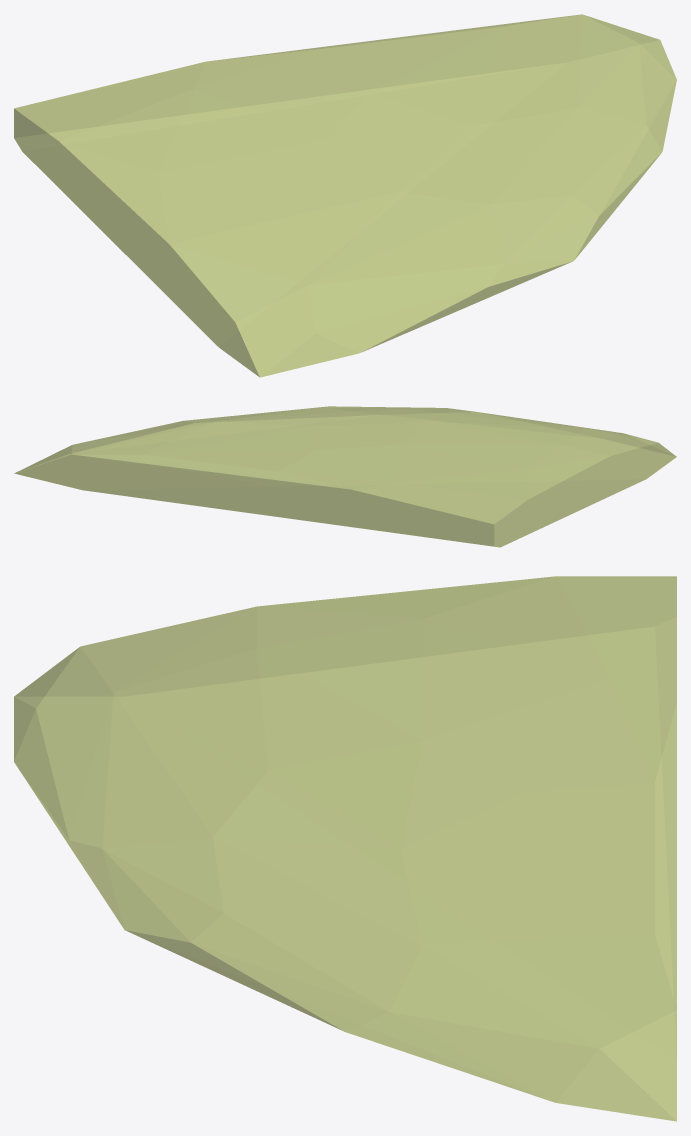
The picture shows the model from 3 angles, top to bottom: view 1: azimuth 30°, elevation 25°; view 2: azimuth 150°, elevation 25°; view 3: azimuth 270°, elevation 25°; orthographic projection. The views are drawn at different scales.
Visible parts, largest first — view 1: Shape_IndexedFaceSet.002_Shape_IndexedFaceSet.11146; view 2: Shape_IndexedFaceSet.002_Shape_IndexedFaceSet.11146; view 3: Shape_IndexedFaceSet.002_Shape_IndexedFaceSet.11146.
Part boxes in pixels (left/top/right/bottom): Shape_IndexedFaceSet.002_Shape_IndexedFaceSet.11146: left=14, top=14, right=676, bottom=377; Shape_IndexedFaceSet.002_Shape_IndexedFaceSet.11146: left=14, top=406, right=676, bottom=547; Shape_IndexedFaceSet.002_Shape_IndexedFaceSet.11146: left=14, top=576, right=676, bottom=1121.
Bounding box in the file's own units: 0.2988 × 0.0394 × 0.1969.
